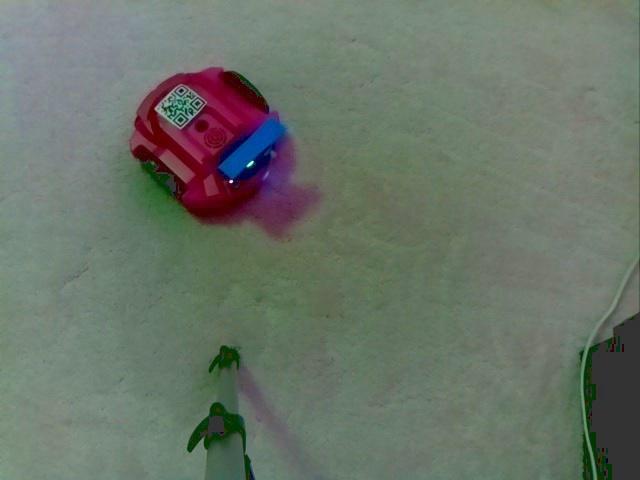board: (216, 109, 291, 184)
chassis: (128, 65, 286, 211)
